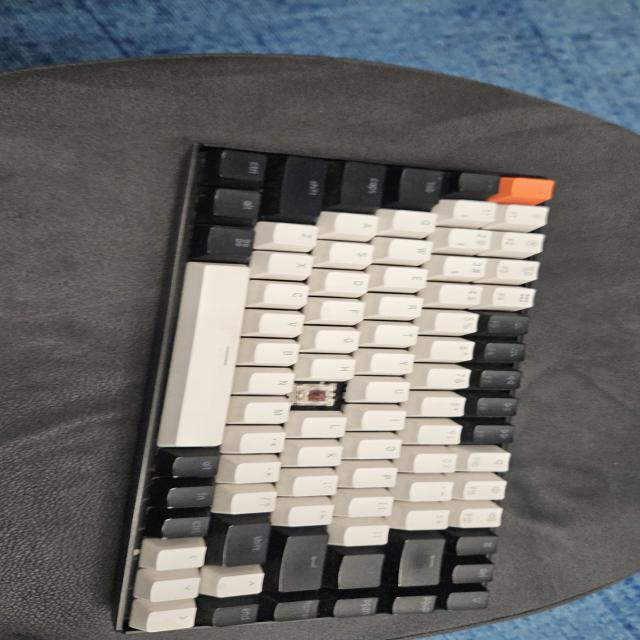C: (297, 385, 333, 406)
